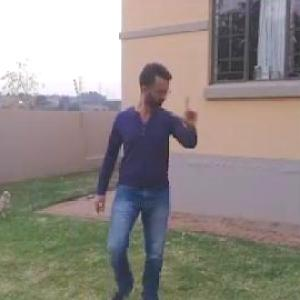land_hand: (174, 86, 206, 126)
